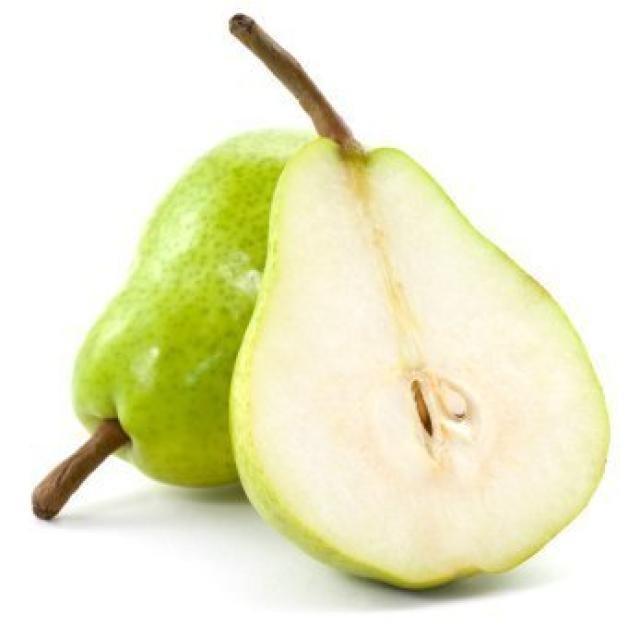paer: (247, 144, 629, 626), (32, 137, 415, 582)
